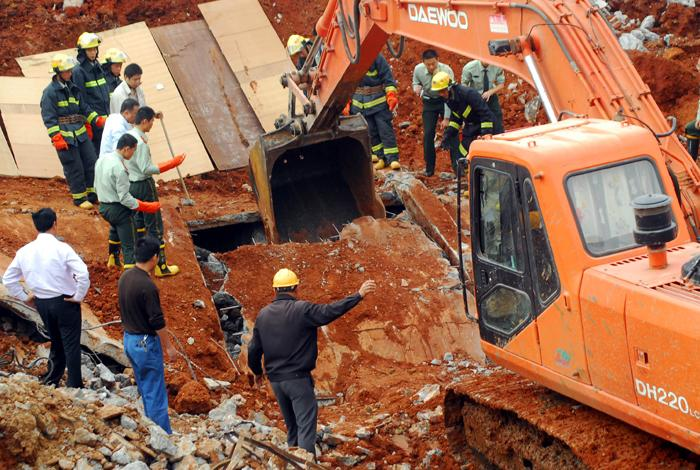helmet: (49, 54, 78, 75), (430, 71, 455, 94), (272, 269, 300, 289), (287, 34, 308, 57), (102, 49, 130, 66), (77, 32, 103, 49)
